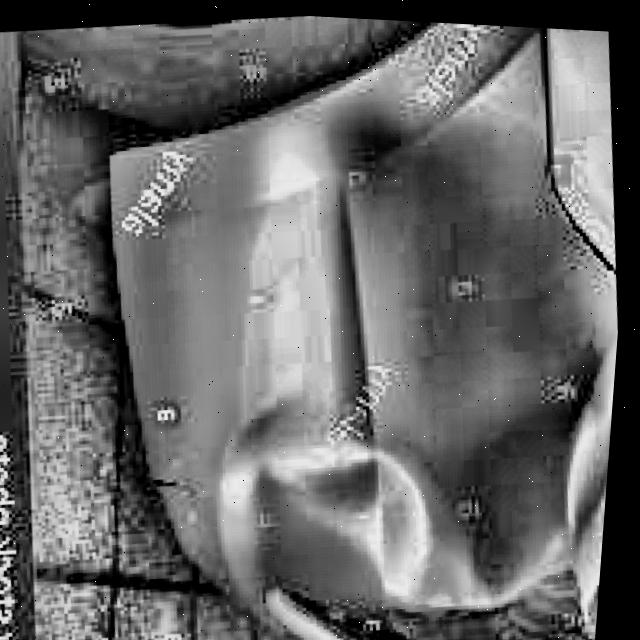bumper_dent: (176, 75, 625, 634)
